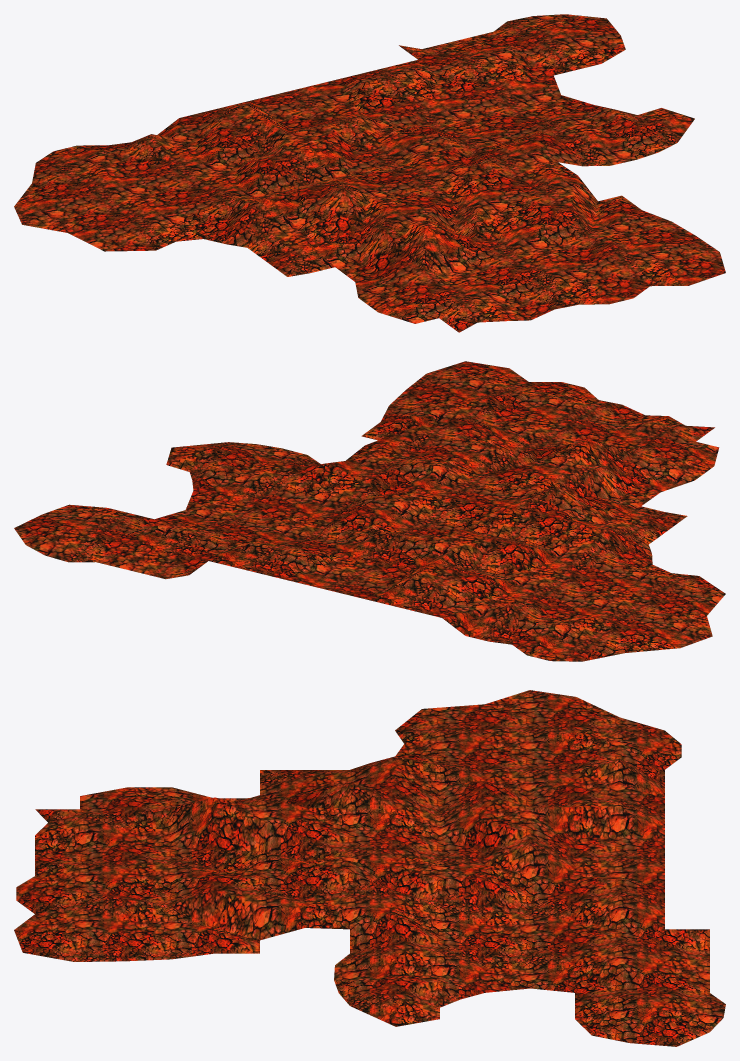
File: FORGE_HOT_AND_COLD_COALPILES_FORGE_COALPILE_HOT.fbx
3 views of the same model, one above another, from view 1: azimuth 30°, elevation 25°; view 2: azimuth 150°, elevation 25°; view 3: azimuth 270°, elevation 25° (orthographic). The views are drawn at different scales.
Visible parts, largest first — view 1: FORGE_HOT_AND_COLD_COALPILES_FORGE_COALPILE_HOT; view 2: FORGE_HOT_AND_COLD_COALPILES_FORGE_COALPILE_HOT; view 3: FORGE_HOT_AND_COLD_COALPILES_FORGE_COALPILE_HOT.
Boxes of the visible parts, bbox=[...] form: FORGE_HOT_AND_COLD_COALPILES_FORGE_COALPILE_HOT: bbox=[14, 14, 725, 332]; FORGE_HOT_AND_COLD_COALPILES_FORGE_COALPILE_HOT: bbox=[14, 361, 725, 661]; FORGE_HOT_AND_COLD_COALPILES_FORGE_COALPILE_HOT: bbox=[14, 690, 725, 1046].
Size of the model in its own units: 150345 by 8945 by 126758.
1 material, 1 textured.
